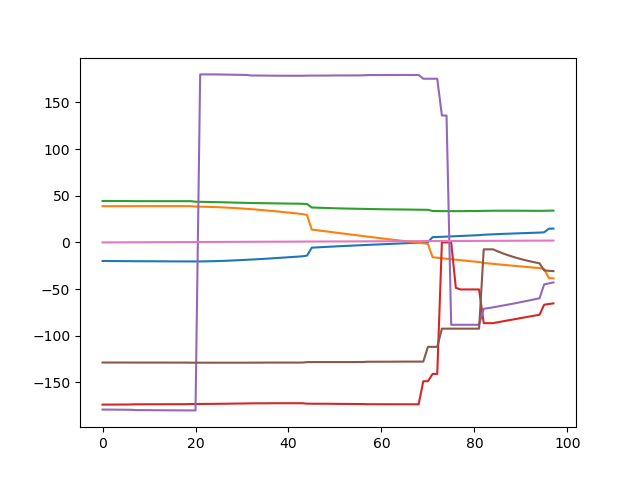Too_Slow: (1, 1, 640, 480)
